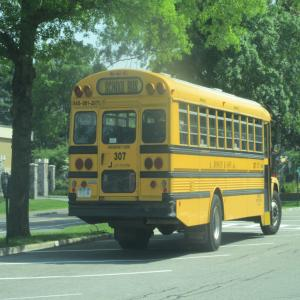Vehicle-registration-plate: (78, 189, 92, 199)
